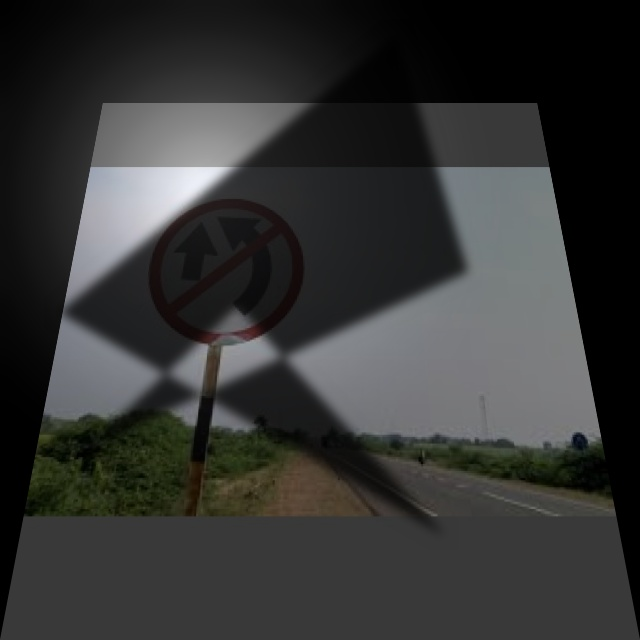Overtaking_Prohibited: (149, 200, 299, 340)
